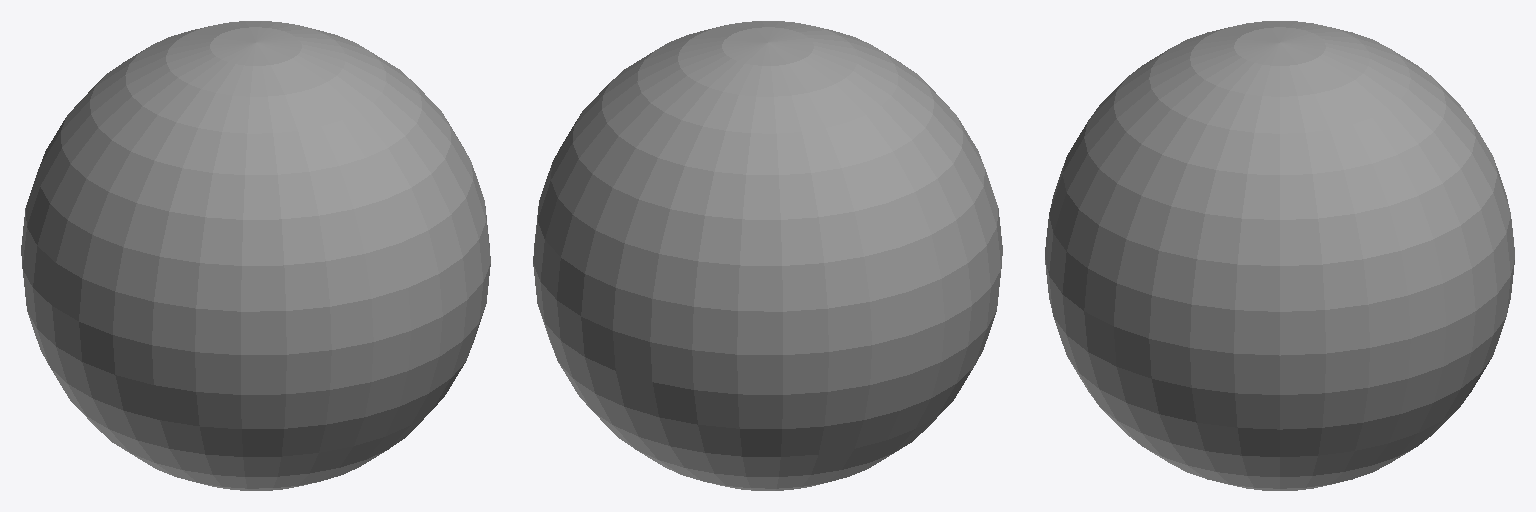
The model's file is Skybox.obj.
3 views of the same model, side by side, from view 1: azimuth 30°, elevation 25°; view 2: azimuth 150°, elevation 25°; view 3: azimuth 270°, elevation 25° (orthographic).
Visible parts, largest first — view 1: Skybox; view 2: Skybox; view 3: Skybox.
Boxes of the visible parts, x1=… form: Skybox: x1=21, y1=21, x2=490, y2=490; Skybox: x1=533, y1=21, x2=1002, y2=490; Skybox: x1=1045, y1=21, x2=1514, y2=490.
Size of the model in its own units: 2 by 2 by 2.